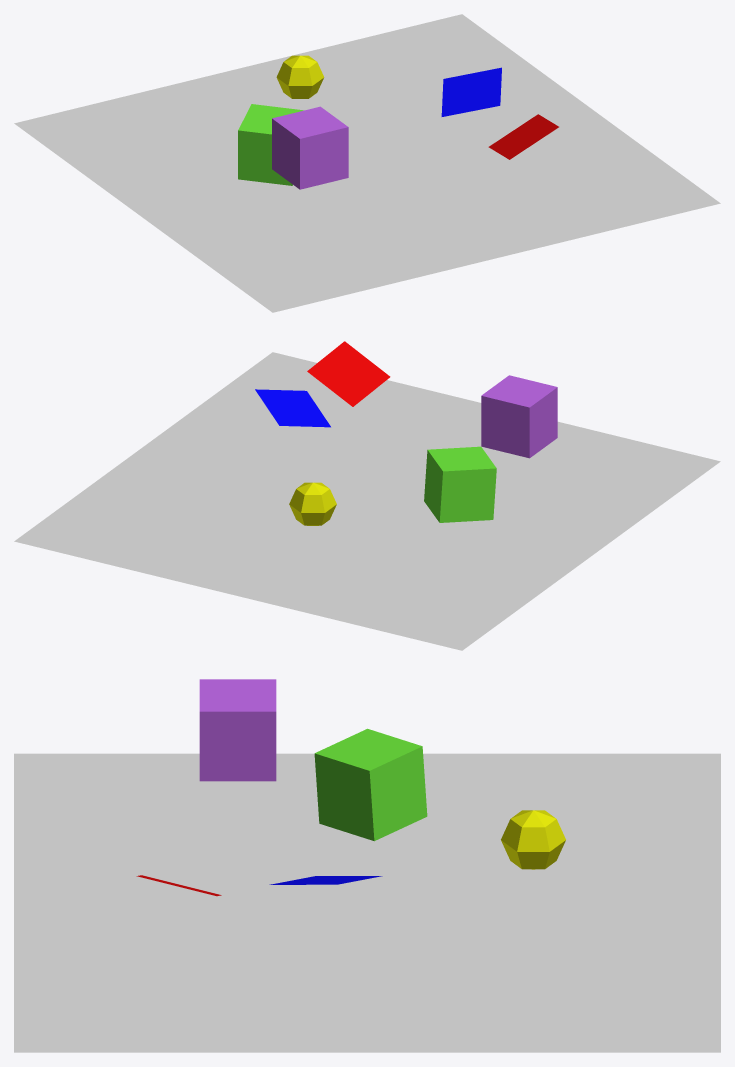
The picture shows the model from 3 angles, top to bottom: view 1: azimuth 30°, elevation 25°; view 2: azimuth 150°, elevation 25°; view 3: azimuth 270°, elevation 25°; orthographic projection. The views are drawn at different scales.
Visible parts, largest first — view 1: Plane, Cube.001, Cube.002, Plane.002, Sphere, Plane.001; view 2: Plane, Cube.001, Cube.002, Plane.001, Plane.002, Sphere; view 3: Plane, Cube.002, Cube.001, Sphere, Plane.002.
Boxes of the visible parts, box(x1,y1,x2,y2) form: Plane: box(14, 14, 720, 312); Cube.001: box(272, 106, 348, 189); Cube.002: box(238, 104, 303, 185); Plane.002: box(441, 67, 501, 116); Sphere: box(276, 55, 324, 98); Plane.001: box(488, 114, 558, 159); Plane: box(14, 352, 720, 650); Cube.001: box(481, 375, 557, 458); Cube.002: box(424, 446, 496, 522); Plane.001: box(307, 341, 390, 406); Plane.002: box(255, 389, 330, 427); Sphere: box(289, 482, 336, 525); Plane: box(14, 753, 720, 1052); Cube.002: box(314, 728, 427, 841); Cube.001: box(199, 679, 276, 781); Sphere: box(501, 810, 565, 869); Plane.002: box(269, 876, 382, 884).
Bounding box in the file's own units: 12.45 × 2.68 × 12.45.
